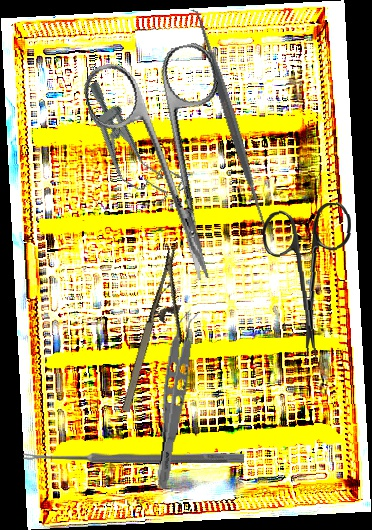Iris Scissors: (78, 39, 264, 297), (261, 201, 358, 362)
Needle Holder: (116, 247, 209, 422)
Spatula Surgical: (185, 4, 279, 236)
Speculum: (64, 74, 190, 216)
Surgical Spoon: (23, 452, 244, 463)
Tissue Forceps: (153, 307, 202, 492)
